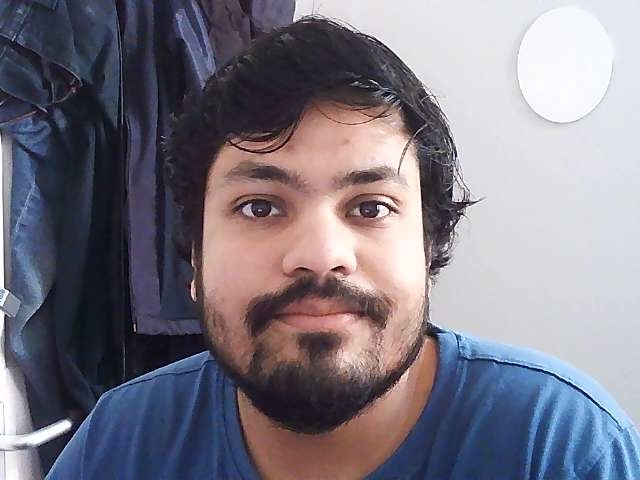Face: (160, 12, 502, 431)
